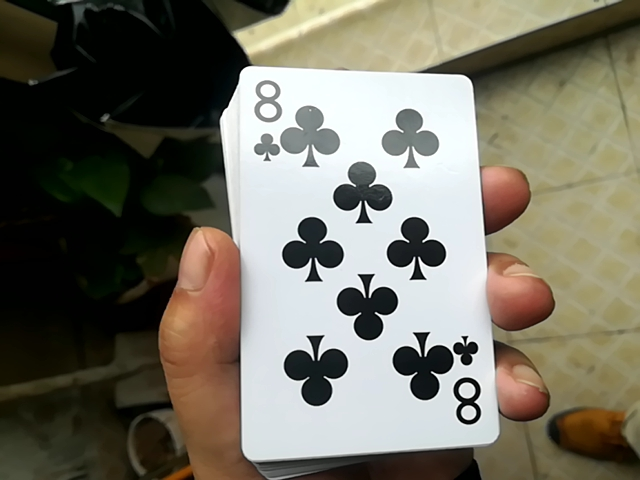mh 8: (228, 54, 485, 468)
